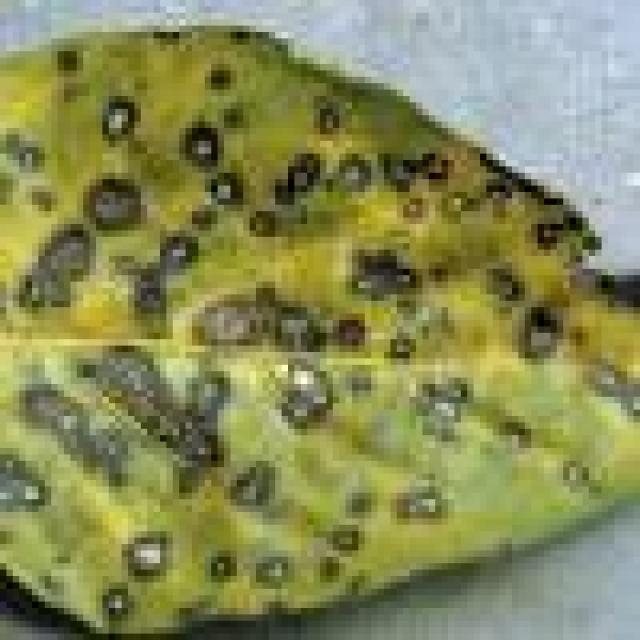Bercak Daun Serkospora: (0, 19, 634, 634)
